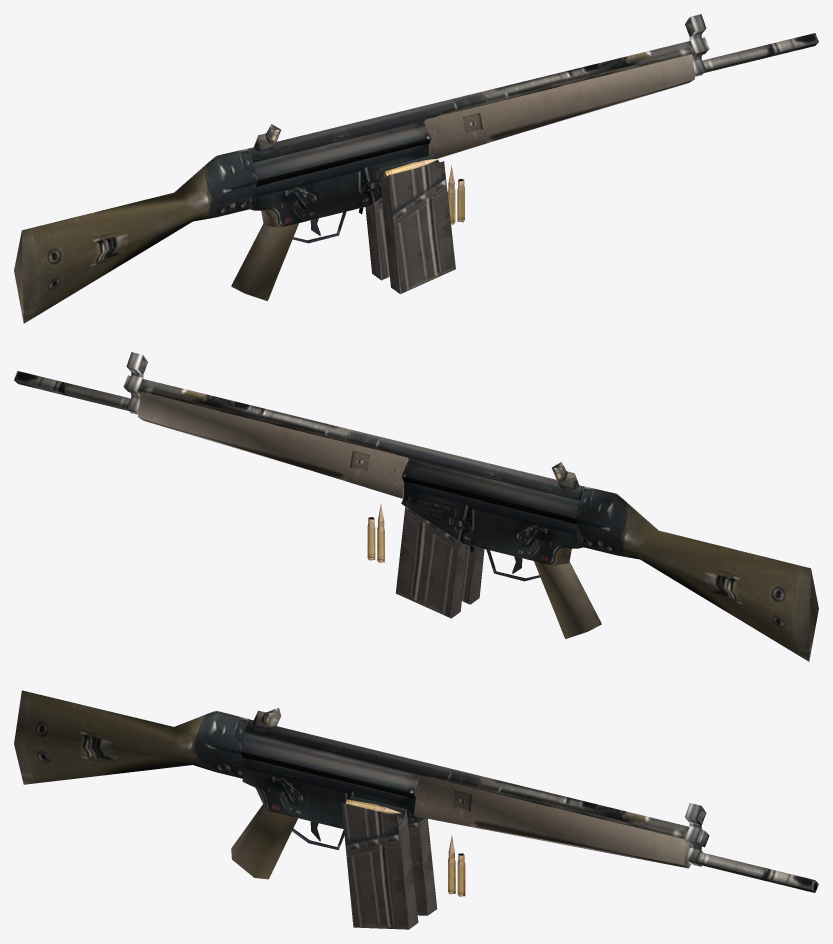
3 renders of one model, top to bottom at view 1: azimuth 30°, elevation 25°; view 2: azimuth 150°, elevation 25°; view 3: azimuth 330°, elevation 25°, orthographic.
Parts seen in each view (by area): view 1: G3, G3Magazene_Full, G3Magazene; view 2: G3, G3Magazene, G3Magazene_Full; view 3: G3, G3Magazene_Full, G3Magazene.
Boxes of the visible parts, bbox=[...] form: G3: bbox=[14, 14, 818, 323]; G3Magazene_Full: bbox=[379, 154, 455, 294]; G3Magazene: bbox=[365, 146, 418, 280]; G3: bbox=[14, 352, 818, 661]; G3Magazene: bbox=[395, 484, 467, 618]; G3Magazene_Full: bbox=[462, 545, 484, 604]; G3: bbox=[14, 690, 818, 892]; G3Magazene_Full: bbox=[341, 796, 418, 929]; G3Magazene: bbox=[376, 790, 437, 915].
Size of the model in its own units: 436 by 96.5 by 30.77.
5 materials, 5 textured.
